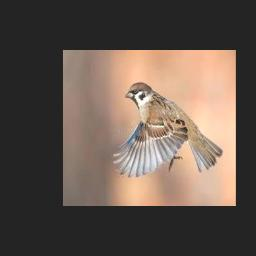Sparrow: (113, 82, 223, 177)
